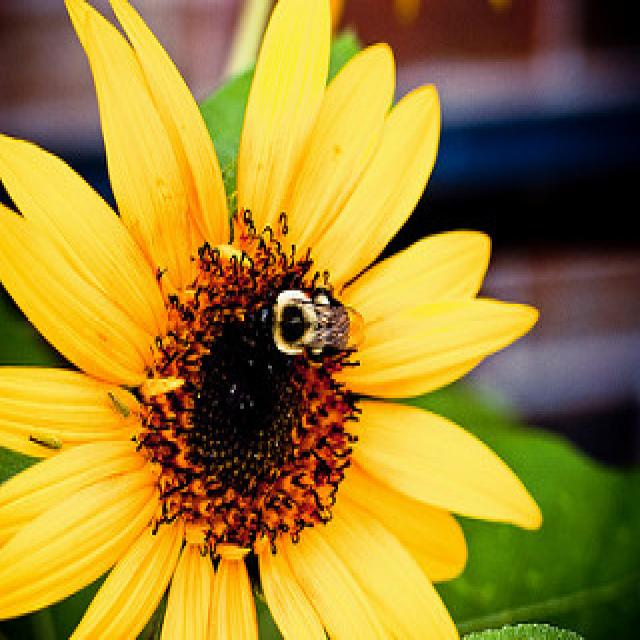sunflower: (9, 11, 539, 640)
